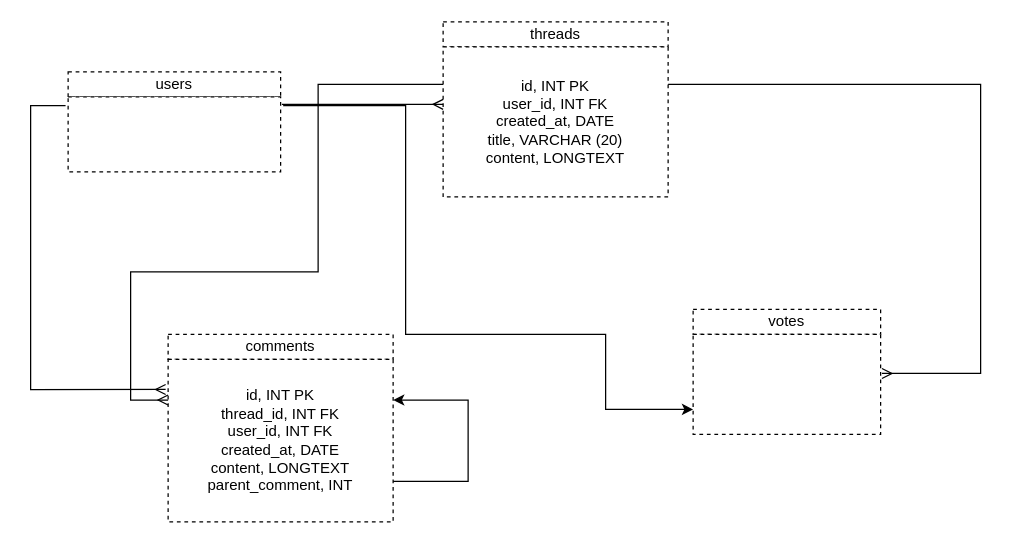
Image size: 1013x544. Some labels were removed from this diagram. The shapes that lost their labels are listed below. From the top down, each one's centre as x and y in pixels, then its label:
At (174,134): "id, INT PK username, VARCHAR (20) email, VARCHAR (20)".
At (786,383): "id, INT PK thread_id, INT FK vote, VARCHAR (10) user_id, INT FK".
